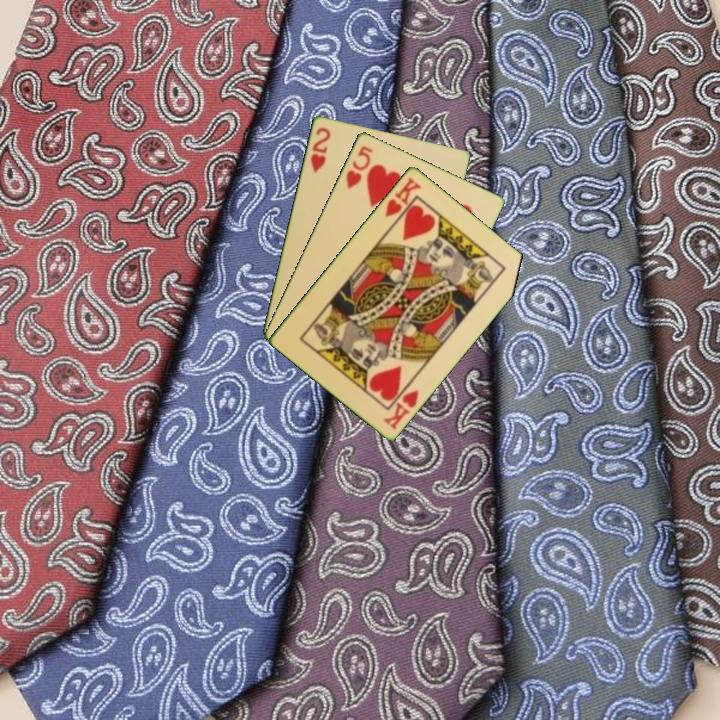2h: (307, 123, 333, 176)
5h: (342, 141, 376, 192)
Kh: (381, 173, 424, 227), (380, 379, 422, 432)
